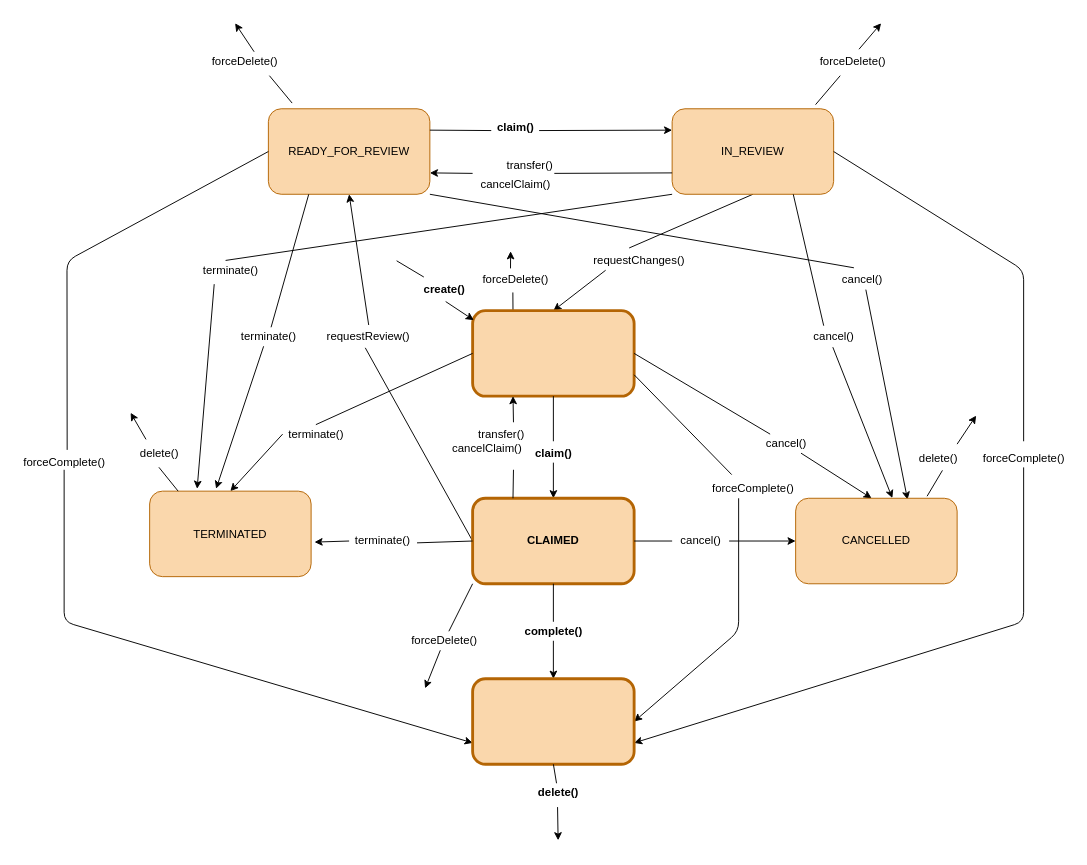
The diagram is 1087 pixels wide and 865 high, and some of its shapes have lost their labels. The shapes that lost their labels are listed below. From the top down, each one's centre as x and y in pixels, then its label:
At point 553,353: "READY".
At point 553,721: "COMPLETED".
